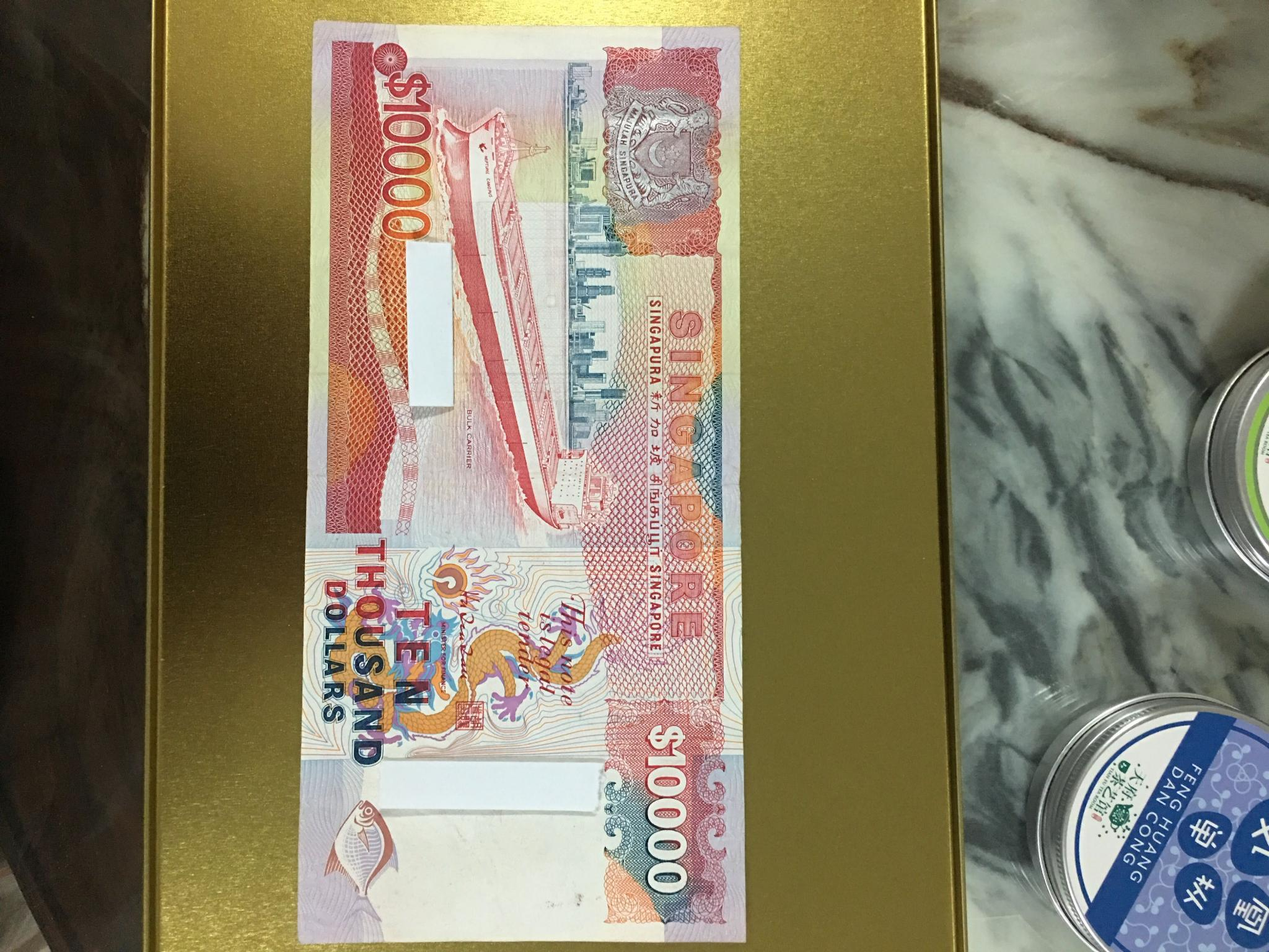10000SingaporeDollar: (313, 31, 739, 941)
